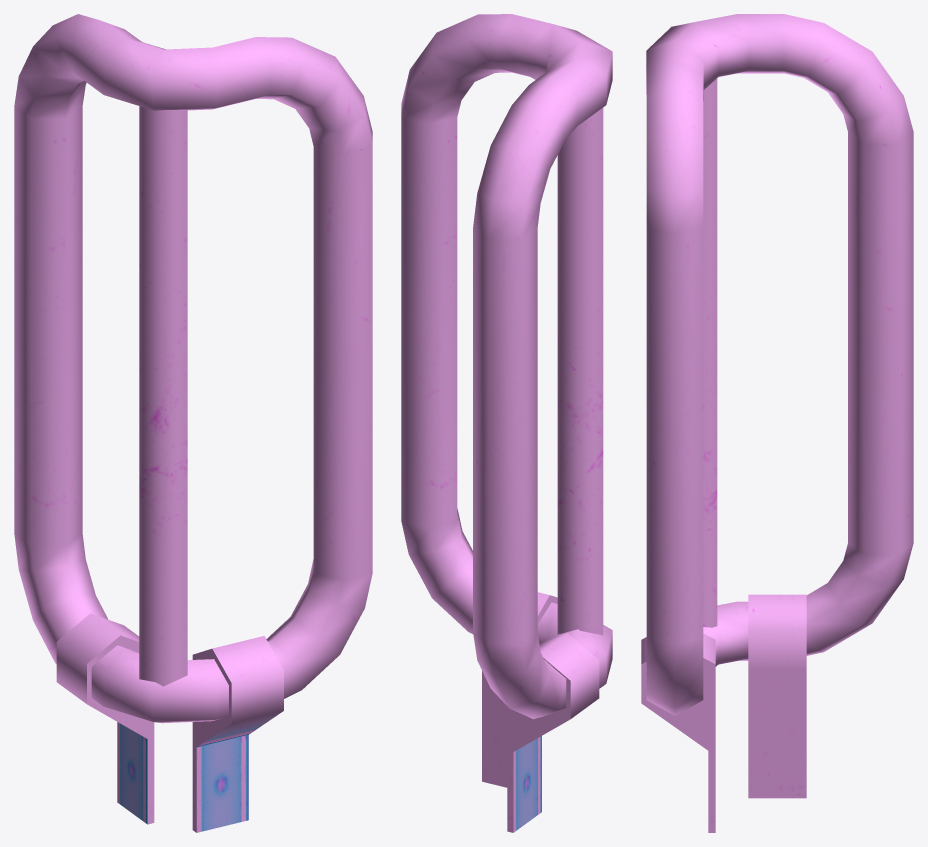
File: RailCorner_01_SM_Low.fbx
3 views of the same model, side by side, from view 1: azimuth 30°, elevation 25°; view 2: azimuth 150°, elevation 25°; view 3: azimuth 270°, elevation 25° (orthographic). The views are drawn at different scales.
Visible parts, largest first — view 1: Corner; view 2: Corner; view 3: Corner.
Part boxes in pixels (<box>): Corner: <box>14,14,372,832</box>; Corner: <box>401,14,612,832</box>; Corner: <box>641,14,913,832</box>.
Size of the model in its own units: 35.97 by 111 by 35.72.
Materials: 1 (1 with a texture image).
